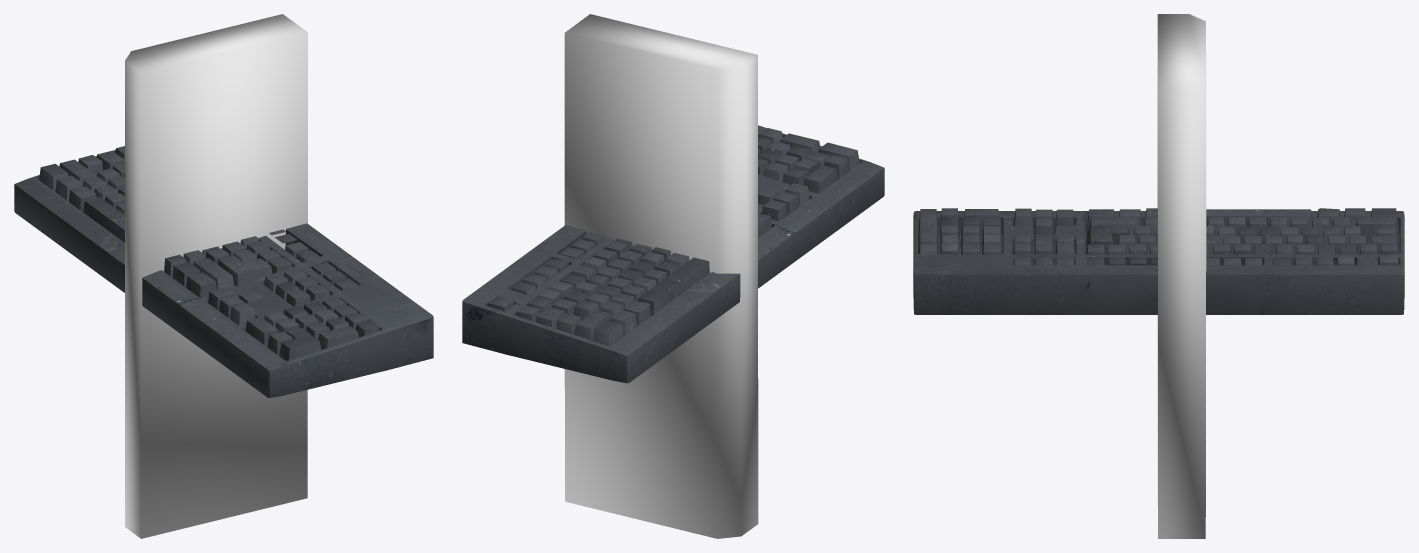
The model's file is SM_Keyboard.fbx.
3 renders of one model, left to right at view 1: azimuth 30°, elevation 25°; view 2: azimuth 150°, elevation 25°; view 3: azimuth 270°, elevation 25°, orthographic. The views are drawn at different scales.
Visible parts, largest first — view 1: SM_Keyboard_ConvexHulls, SM_Keyboard; view 2: SM_Keyboard_ConvexHulls, SM_Keyboard; view 3: SM_Keyboard, SM_Keyboard_ConvexHulls.
Part boxes in pixels (x1,y1,x2,y2): SM_Keyboard_ConvexHulls: (125,14,307,538); SM_Keyboard: (14,146,433,397); SM_Keyboard_ConvexHulls: (564,14,758,538); SM_Keyboard: (462,125,884,383); SM_Keyboard: (913,208,1404,314); SM_Keyboard_ConvexHulls: (1157,14,1206,538).
Size of the model in its own units: 0.1754 by 0.4681 by 0.4661.
